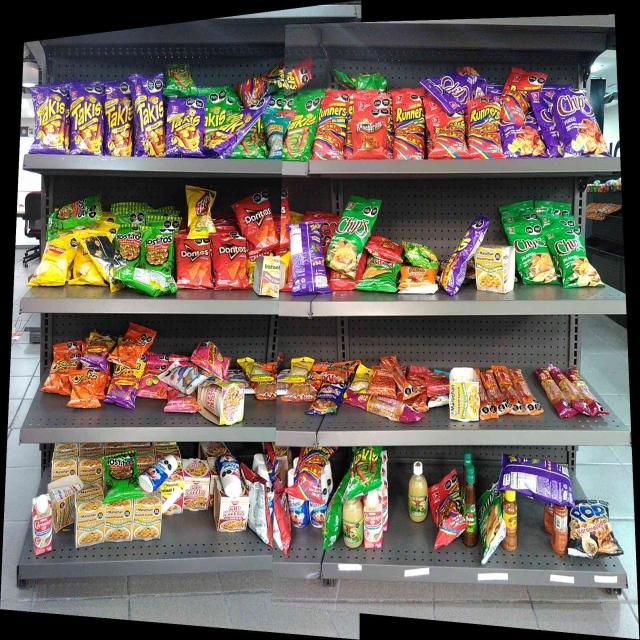bitzEnchilado90: (372, 365, 396, 396)
bitzEnchilado95: (482, 368, 536, 415)
bitzHabanero: (540, 368, 600, 419), (360, 398, 418, 419)
bokadosCacahuates: (319, 384, 340, 413)
botaneraChilito: (503, 491, 517, 552)
cheetosFlaminHot: (115, 366, 140, 406), (87, 331, 113, 368)
cheetosOriginal: (51, 348, 76, 393), (77, 370, 103, 406), (118, 336, 144, 364)
chipsFuego: (548, 90, 600, 158), (504, 126, 546, 158), (438, 69, 482, 96)
chipsJalapeno: (518, 222, 557, 285), (329, 200, 361, 273), (560, 231, 599, 288), (479, 495, 501, 557)
chipsPapatinas: (405, 242, 439, 268)
churrumais: (202, 343, 232, 376), (142, 365, 166, 397), (170, 392, 200, 416)
delPrimoSalsa: (408, 463, 427, 519), (342, 493, 361, 547)
doritosNacho: (174, 241, 210, 290), (242, 197, 276, 247), (212, 236, 239, 287)
fritosLimon: (186, 187, 215, 230)
hotNutsOriginal: (401, 271, 438, 295)
leoCacahuates: (168, 365, 200, 387)
leoMix: (313, 363, 351, 381), (286, 386, 317, 399)
maruchanPollo: (477, 248, 515, 290), (450, 367, 479, 421), (75, 492, 104, 544), (133, 500, 159, 539), (52, 482, 74, 527), (106, 506, 132, 540)
maruchanRes: (255, 258, 280, 297), (160, 482, 182, 514)
nestleCarnation: (362, 490, 382, 548), (32, 498, 50, 552)
nestleLechera: (217, 454, 242, 492), (140, 464, 159, 492), (290, 505, 308, 528)
nissinCamaron: (204, 380, 244, 424)
nissinRes: (184, 460, 208, 510), (219, 498, 248, 530)
popKarameladas: (570, 500, 614, 554)
productoAtras: (288, 224, 326, 293), (504, 459, 571, 488), (250, 479, 272, 543), (119, 274, 175, 294), (84, 233, 111, 267)
rancheritos: (350, 114, 388, 159)
rufflesQueso: (363, 259, 398, 294)
runners: (390, 95, 425, 158), (317, 93, 348, 160), (430, 482, 461, 543), (470, 100, 501, 158), (429, 115, 467, 160), (298, 448, 325, 502), (242, 70, 311, 90), (504, 70, 527, 124)
sabritasOriginal: (43, 242, 82, 286)
salsaBufalo: (466, 466, 476, 546)
semillasCalabaza: (246, 358, 271, 382), (290, 359, 309, 382), (354, 366, 370, 390)
semillasGirasol: (271, 112, 287, 158)
tajinDulce: (552, 502, 568, 553)
takisFuego: (135, 73, 166, 158), (72, 86, 104, 154), (35, 90, 70, 152), (168, 96, 203, 156), (441, 232, 474, 294), (106, 84, 132, 156), (210, 123, 237, 156)
takisOriginal: (289, 96, 314, 158), (353, 449, 381, 486), (168, 64, 197, 95), (205, 89, 231, 121), (241, 131, 268, 157)
tostitos: (140, 227, 173, 271), (51, 198, 102, 226), (105, 455, 138, 496), (113, 225, 138, 261)
